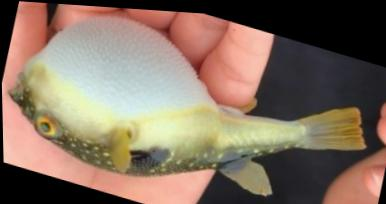fish: (8, 16, 363, 191)
